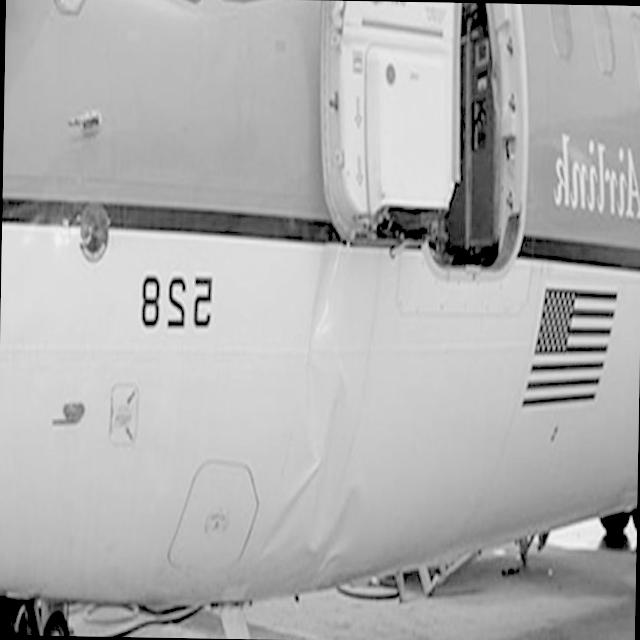dent: (262, 240, 366, 584)
